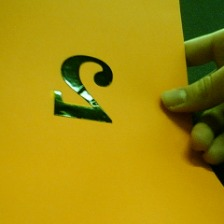orange2: (48, 53, 118, 125)
